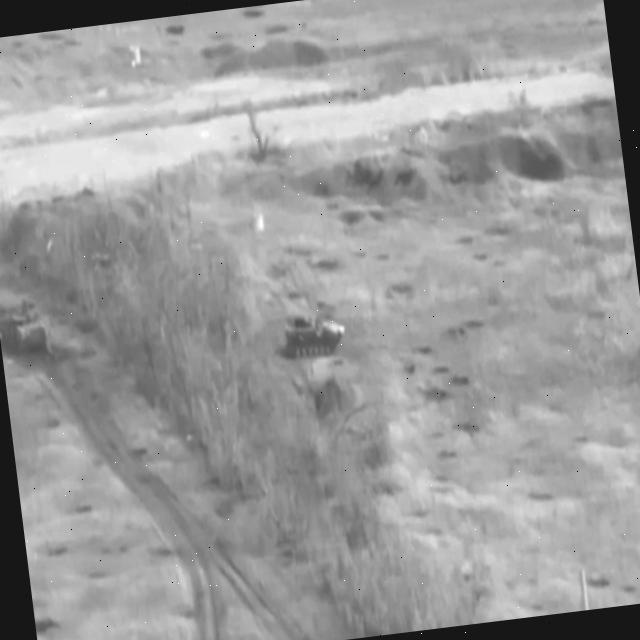AIFV: (279, 306, 350, 364)
MBT: (1, 291, 56, 366)
